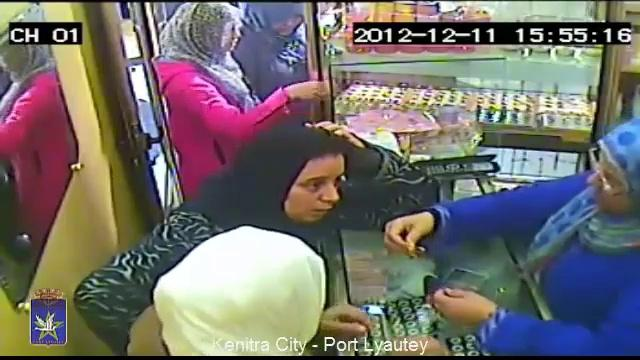Product: (311, 77, 333, 99), (409, 239, 427, 264)
Product-Picked: (411, 112, 640, 360), (149, 4, 349, 154)
Regular: (139, 227, 407, 360), (247, 110, 378, 232), (228, 0, 314, 108)
